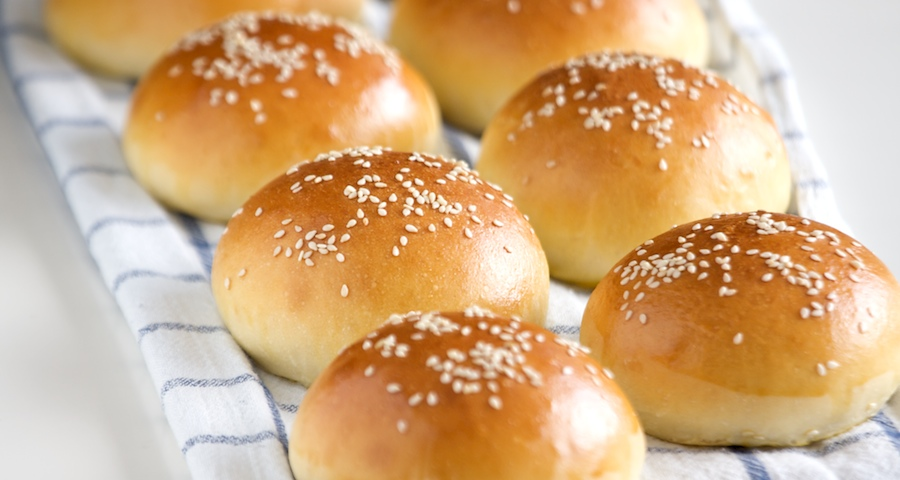hamburger_buns: (227, 145, 554, 357)
